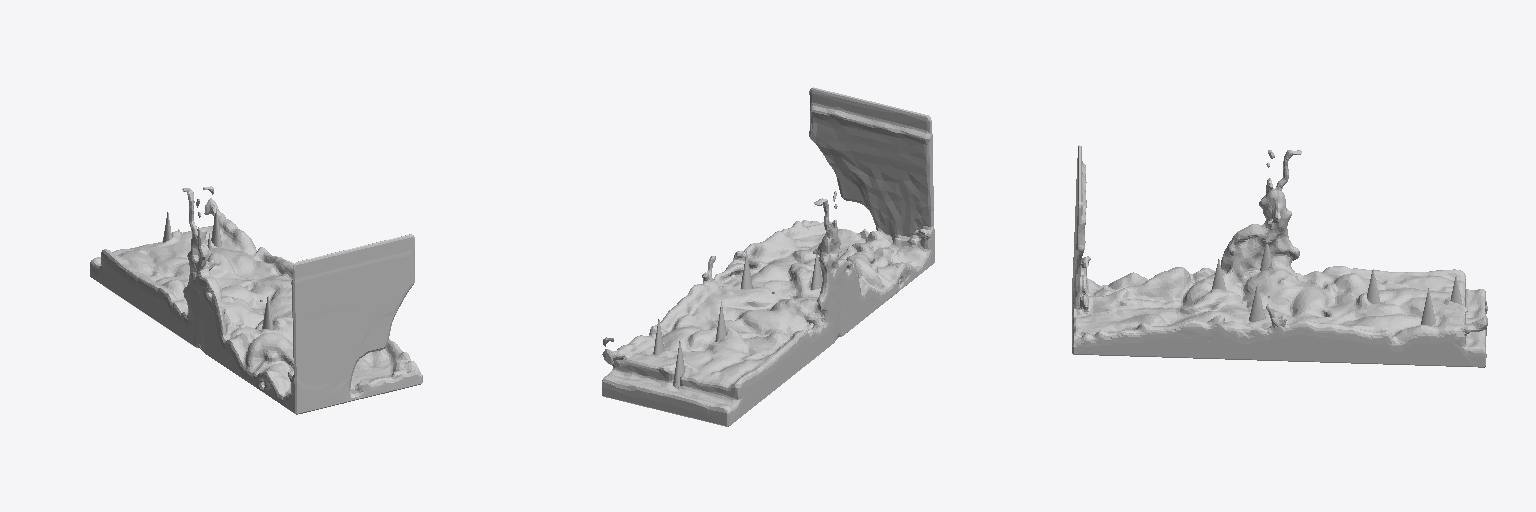
3 views of the same model, side by side, from view 1: azimuth 30°, elevation 25°; view 2: azimuth 150°, elevation 25°; view 3: azimuth 270°, elevation 25° (orthographic).
Visible parts, largest first — view 1: Liquid_Domain; view 2: Liquid_Domain; view 3: Liquid_Domain.
Part boxes in pixels (x1,y1,x2,y2): Liquid_Domain: (90, 186, 422, 414); Liquid_Domain: (602, 87, 934, 426); Liquid_Domain: (1072, 145, 1487, 367).
Bounding box in the file's own units: 129 × 158 × 363.